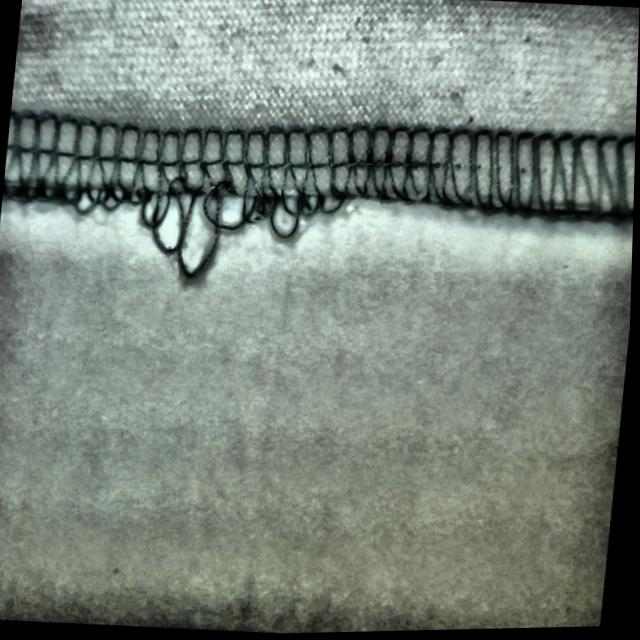Stitch: (68, 102, 355, 295)
